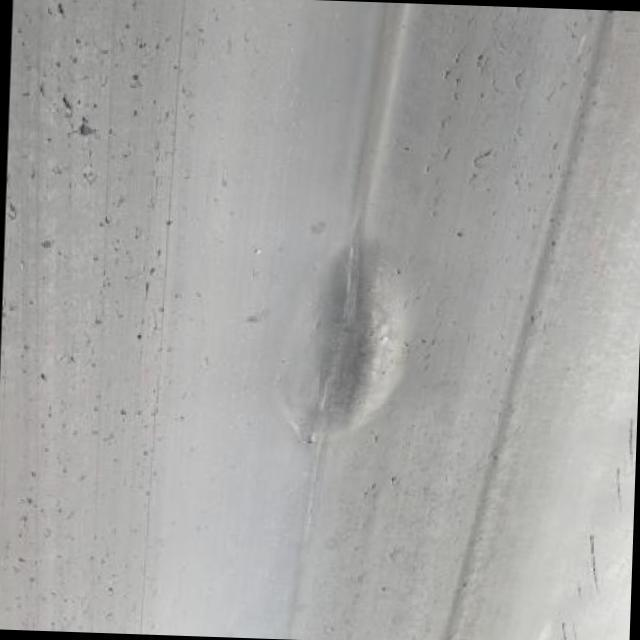Impact Damage: (277, 227, 415, 453)
Puncture: (58, 96, 76, 120), (472, 147, 496, 163), (96, 214, 111, 230), (387, 472, 402, 487), (398, 143, 414, 157), (54, 4, 68, 18), (453, 228, 466, 242), (117, 408, 130, 421), (394, 265, 406, 279), (146, 265, 160, 277), (134, 331, 146, 344), (442, 68, 454, 80), (24, 496, 36, 508), (371, 432, 382, 444), (94, 318, 105, 330), (38, 372, 51, 382), (164, 217, 176, 227), (103, 584, 115, 594)
